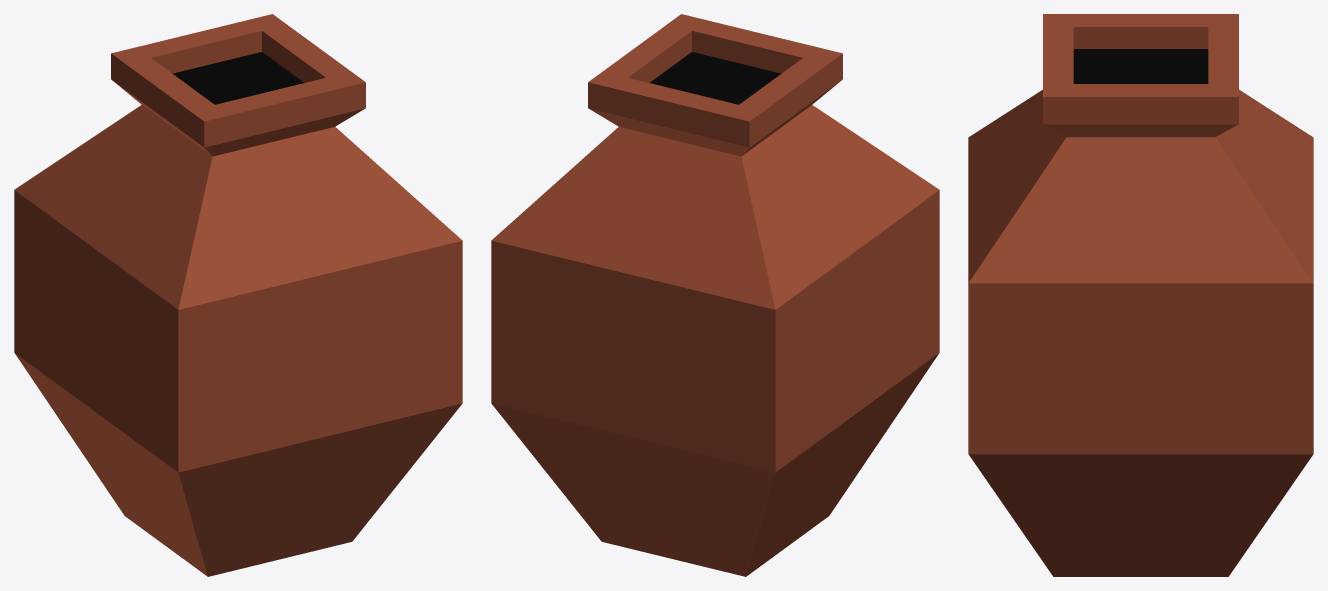
File: Vaso.fbx
The picture shows the model from 3 angles, left to right: view 1: azimuth 30°, elevation 25°; view 2: azimuth 150°, elevation 25°; view 3: azimuth 270°, elevation 25°; orthographic projection. The views are drawn at different scales.
Parts seen in each view (by area): view 1: Cube; view 2: Cube; view 3: Cube.
Part boxes in pixels (left/top/right/bottom): Cube: left=14, top=14, right=462, bottom=576; Cube: left=491, top=14, right=939, bottom=576; Cube: left=968, top=14, right=1313, bottom=576.
Bounding box in the file's own units: 39.42 × 61.07 × 39.42.
